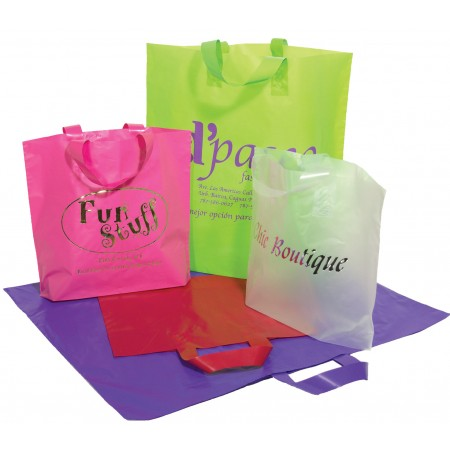Nonrec_Plastic: (1, 228, 439, 425), (138, 23, 355, 285), (10, 115, 231, 307), (228, 149, 406, 353)
